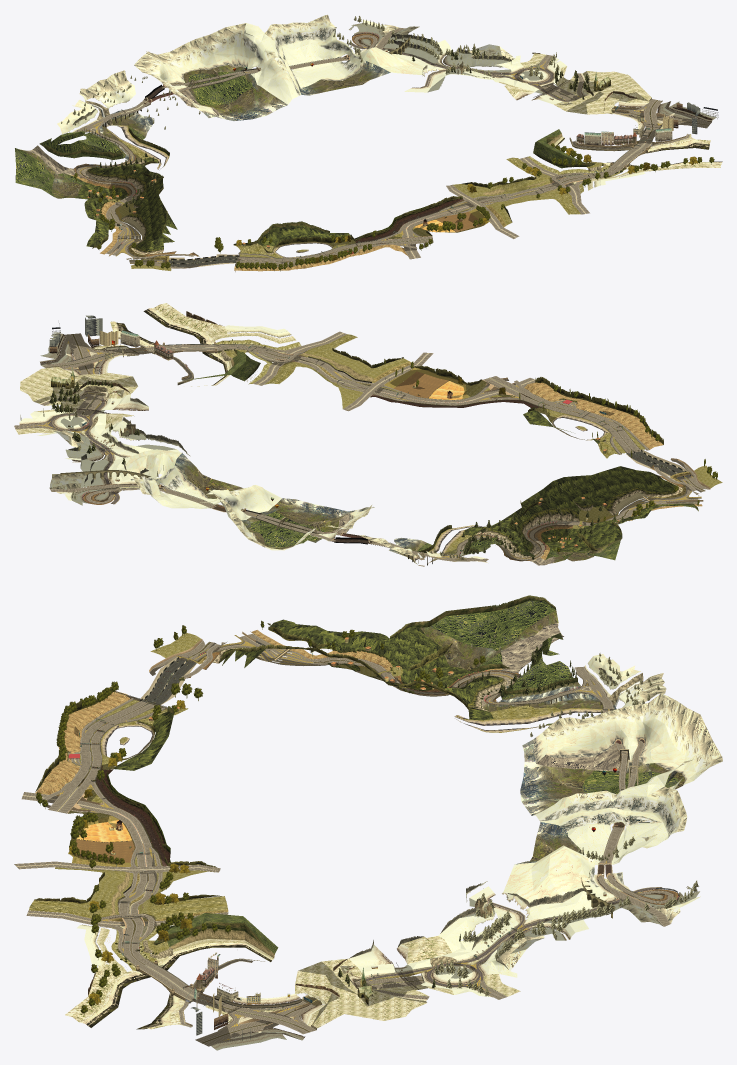
Rendered from track-EU_C2_V2.glb.
3 renders of one model, top to bottom at view 1: azimuth 30°, elevation 25°; view 2: azimuth 150°, elevation 25°; view 3: azimuth 270°, elevation 25°, orthographic. The views are drawn at different scales.
Visible parts, largest first — view 1: EU_C2_V2; view 2: EU_C2_V2; view 3: EU_C2_V2.
Part boxes in pixels (<box>): EU_C2_V2: <box>15,14,722,271</box>; EU_C2_V2: <box>14,303,722,566</box>; EU_C2_V2: <box>14,595,722,1050</box>.
Size of the model in its own units: 3064 by 266 by 2168.
Materials: 133 (132 with a texture image).
